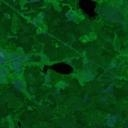alloviz: (42, 61, 74, 75), (76, 1, 99, 20)
